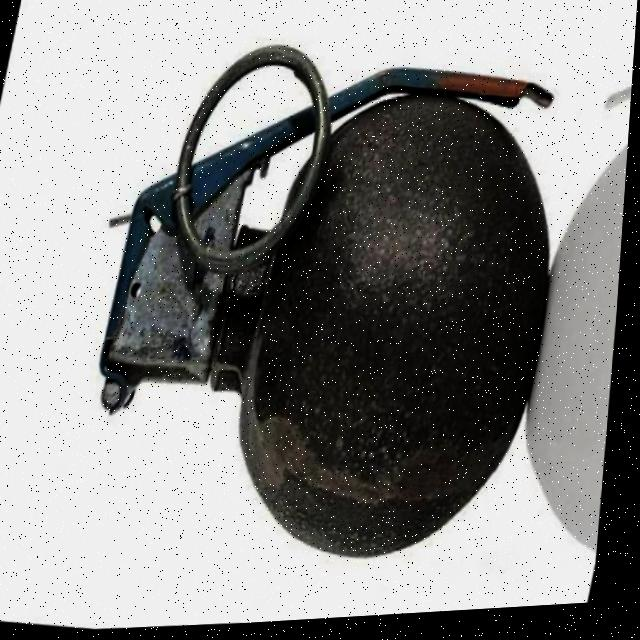grenade: (60, 0, 608, 592)
